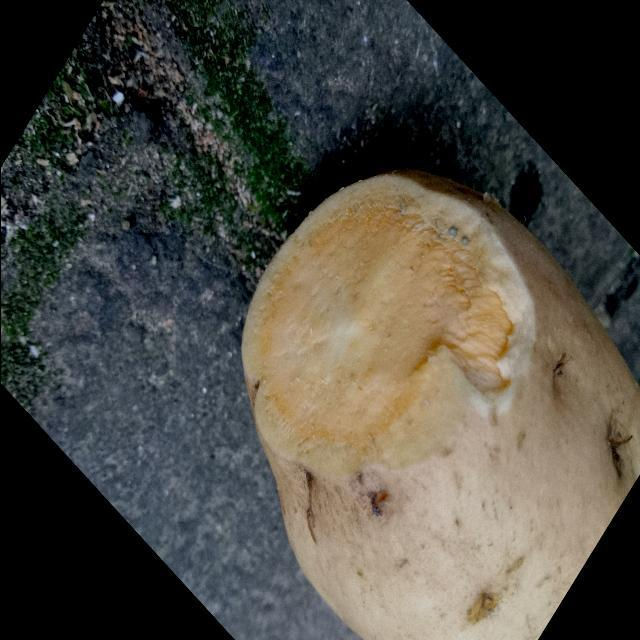Healthy Sweet Potato: (241, 170, 535, 475)
